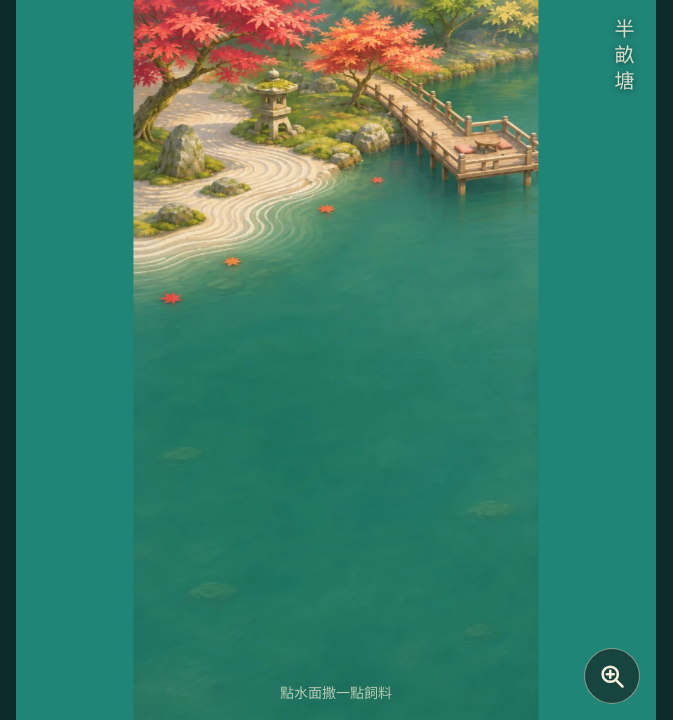
Test: Pond zoom › two fingers zoom without scattering food
Press the mouse on the drawing named "池面，點一下撒飼料" at [336, 508], box [170, 310, 502, 706]
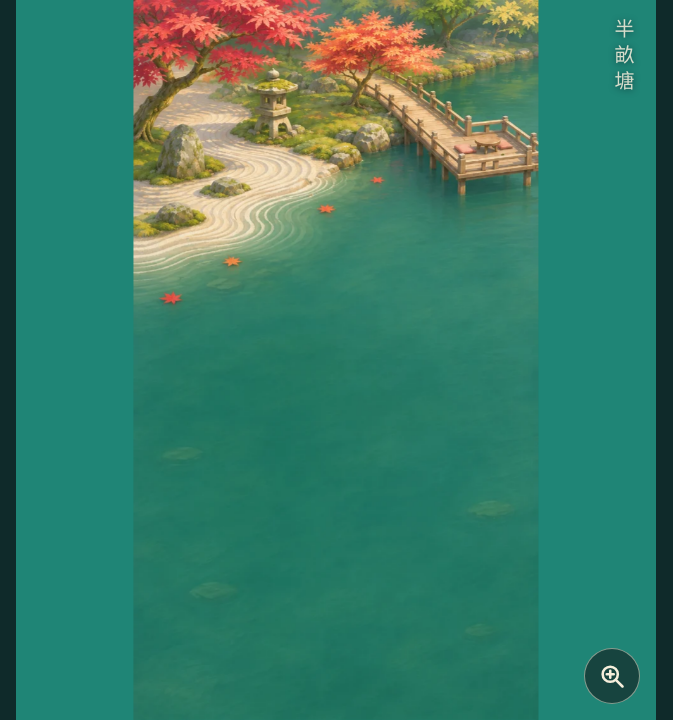
Press the mouse on the drawing named "池面，點一下撒飼料" at [336, 508], box [170, 310, 502, 706]
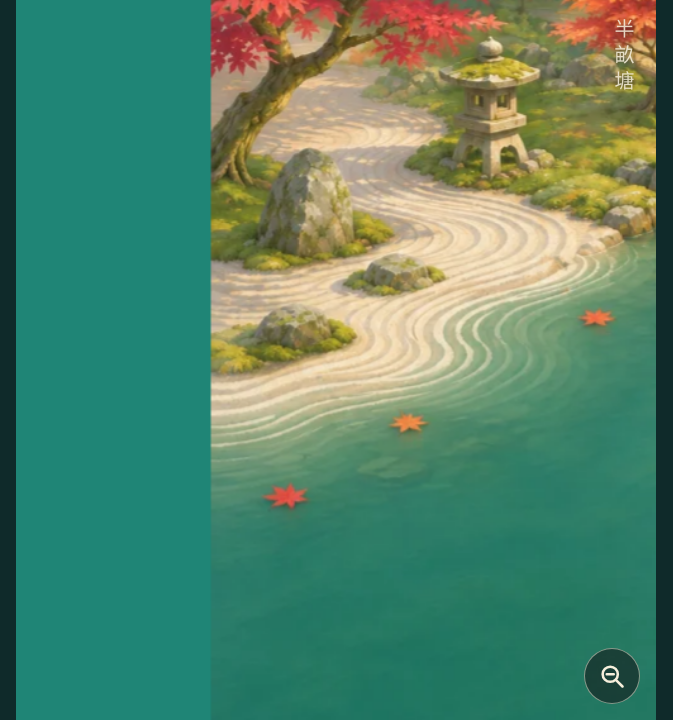
expect the button named "縮回全景" is shown: met, box [584, 648, 640, 704]
